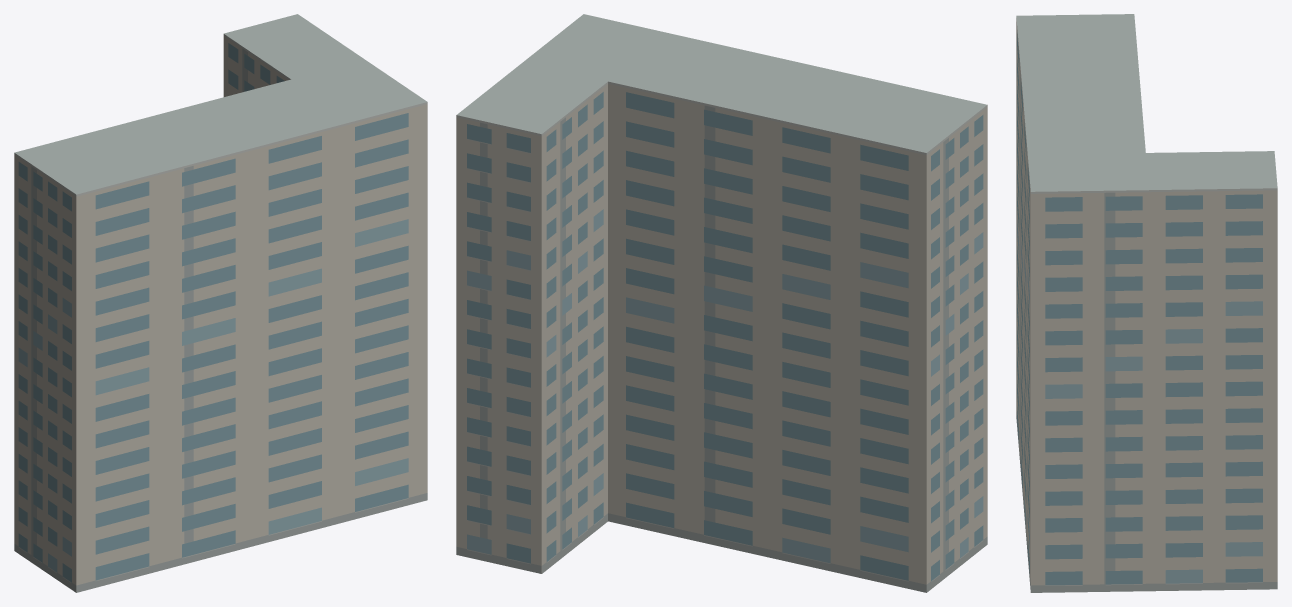
Rendered from residential-dc88b15e-c68e-4023-a4e7-aab6df3c48aa.glb.
3 renders of one model, left to right at view 1: azimuth 30°, elevation 25°; view 2: azimuth 150°, elevation 25°; view 3: azimuth 270°, elevation 25°, orthographic. The views are drawn at different scales.
Parts seen in each view (by area): view 1: residential-dc88b15e-c68e-4023-a4e7-aab6df3c48aa.tmp; view 2: residential-dc88b15e-c68e-4023-a4e7-aab6df3c48aa.tmp; view 3: residential-dc88b15e-c68e-4023-a4e7-aab6df3c48aa.tmp.
Boxes of the visible parts, <box> form: residential-dc88b15e-c68e-4023-a4e7-aab6df3c48aa.tmp: <box>14,14,427,592</box>; residential-dc88b15e-c68e-4023-a4e7-aab6df3c48aa.tmp: <box>456,14,987,592</box>; residential-dc88b15e-c68e-4023-a4e7-aab6df3c48aa.tmp: <box>1016,14,1277,592</box>.
Size of the model in its own units: 45.66 by 48 by 28.35.
